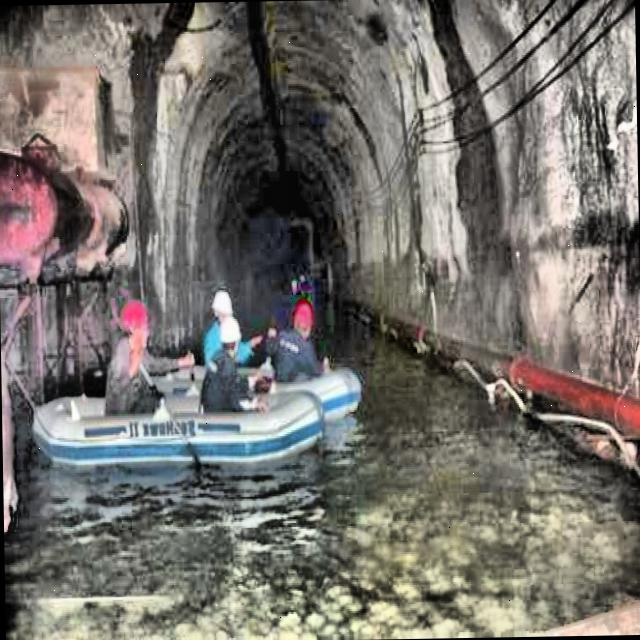helmet: (120, 294, 151, 350), (218, 316, 243, 359), (292, 300, 312, 341), (210, 288, 232, 324)
